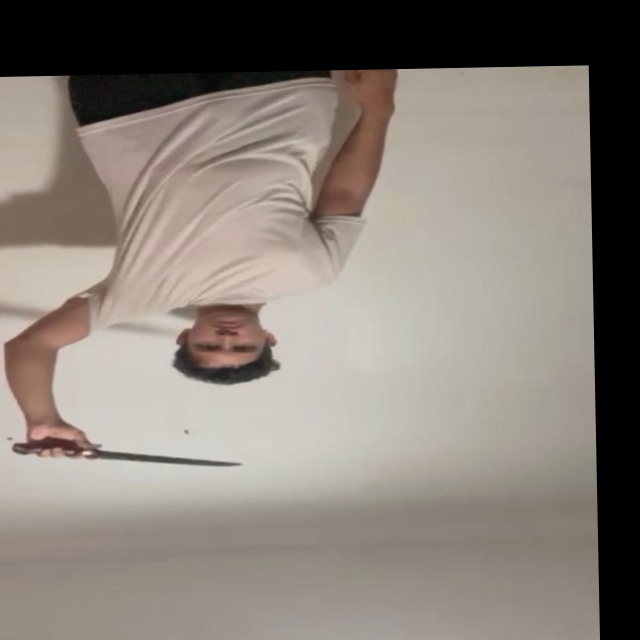Sharp-Object: (93, 448, 243, 470)
